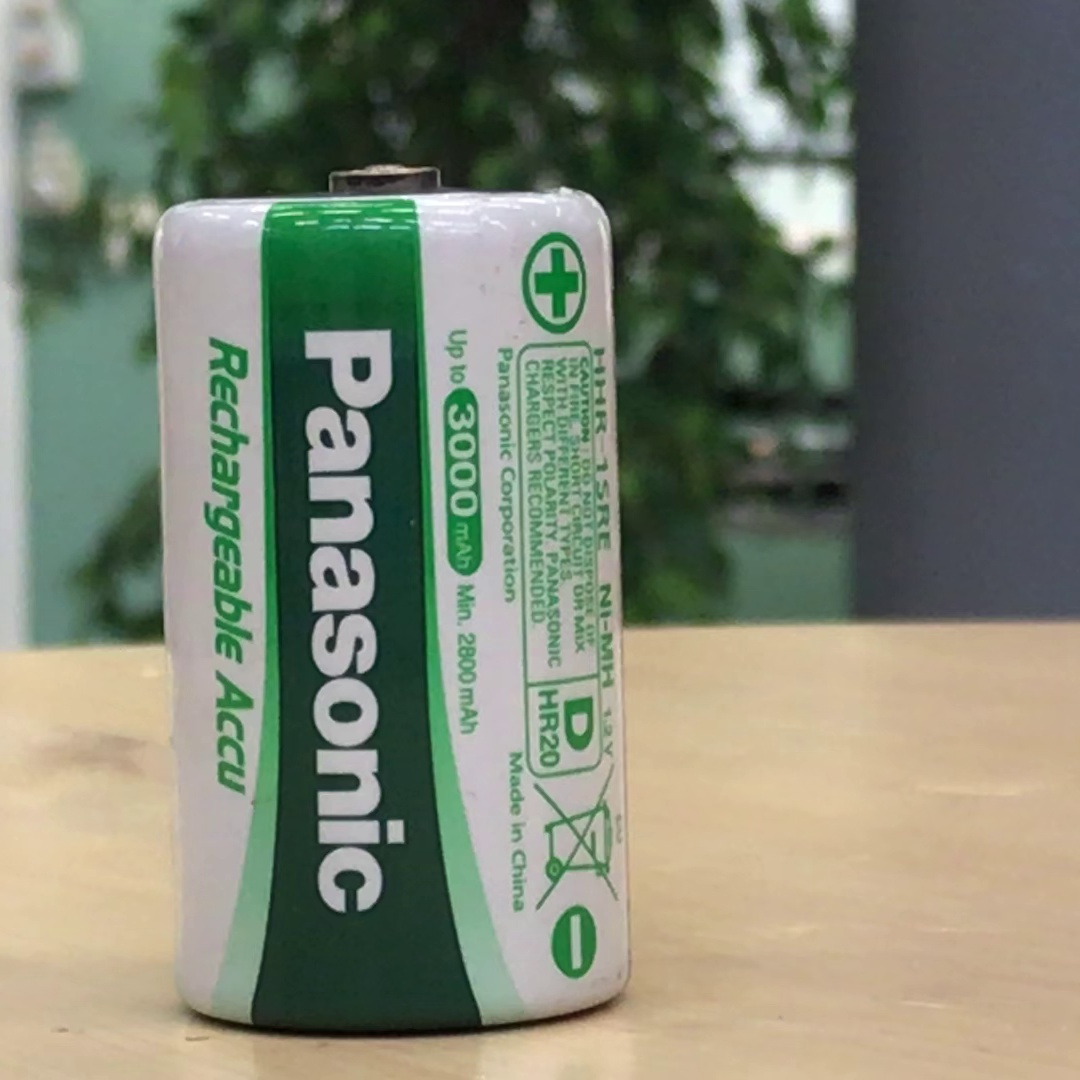keyword: (530, 682, 569, 774)
